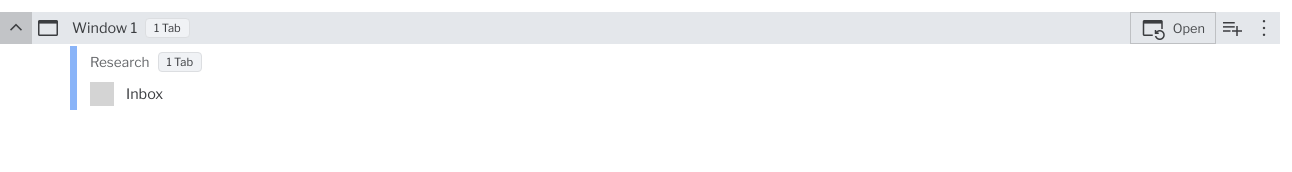
Scenario: finishing a group rename › the row returns to its normal actions once confirmed
The width and height of the screenshot is (1292, 172).
Click the button with aria-label "Rename group: Research" at (118, 62), box x1=86 y1=46 x2=150 y2=78
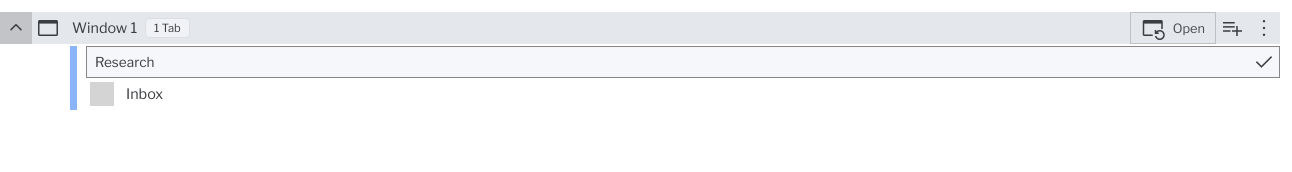
Click the button named "Save changes" at (1264, 62), box x1=1252 y1=48 x2=1276 y2=76
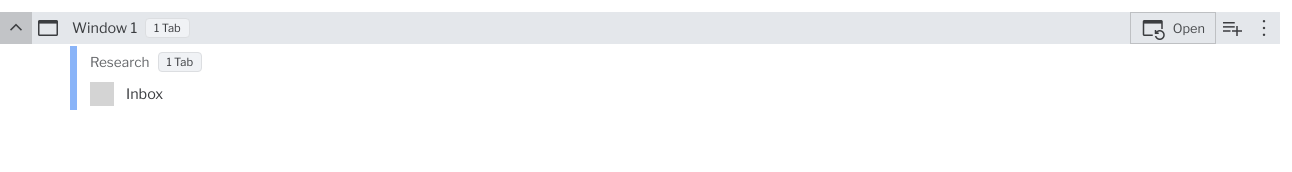
expect the field is gone: met
expect the button with aria-label "Rename group: Research" is shown: met, box x1=86 y1=46 x2=150 y2=78
